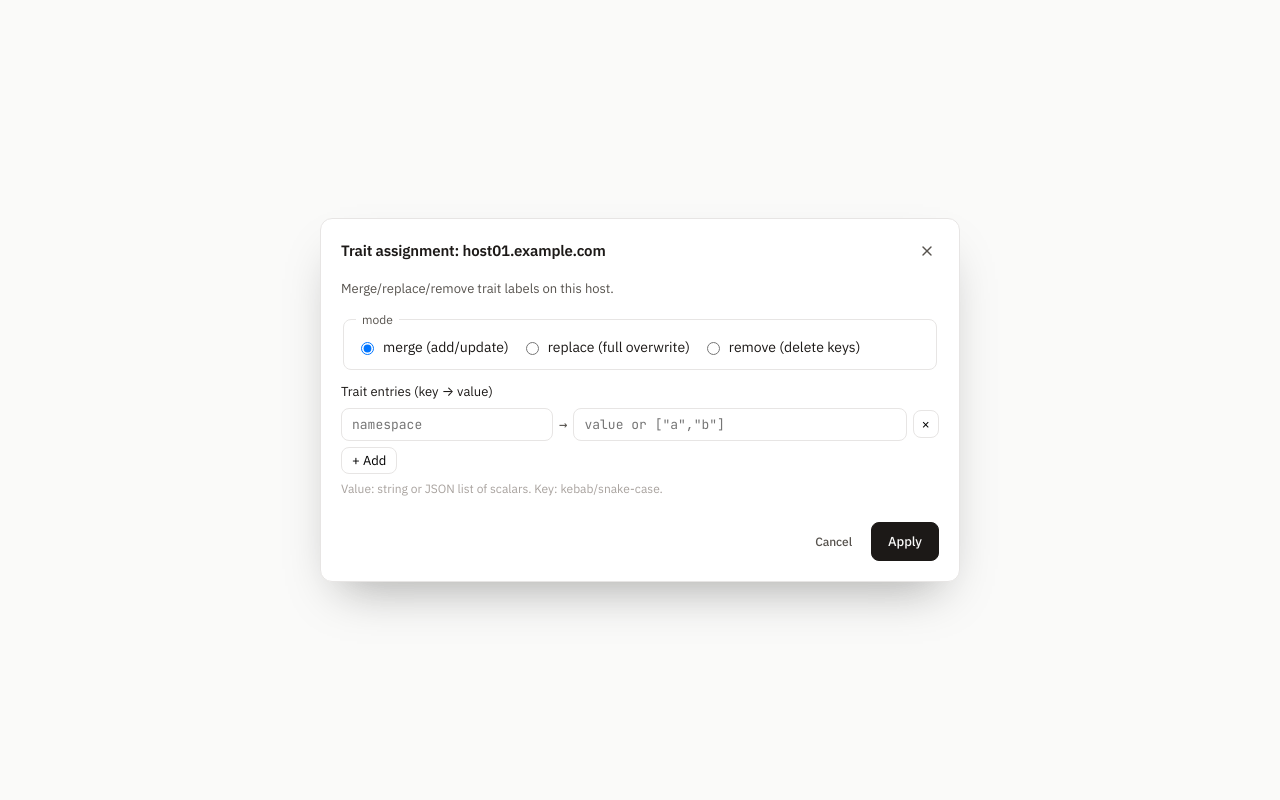
it: TraitsAssignModal › remove — validation: error on empty keys
The width and height of the screenshot is (1280, 800).
Click the radio button with test id "trait-mode-remove" at x=713, y=349, box [707, 342, 720, 355]
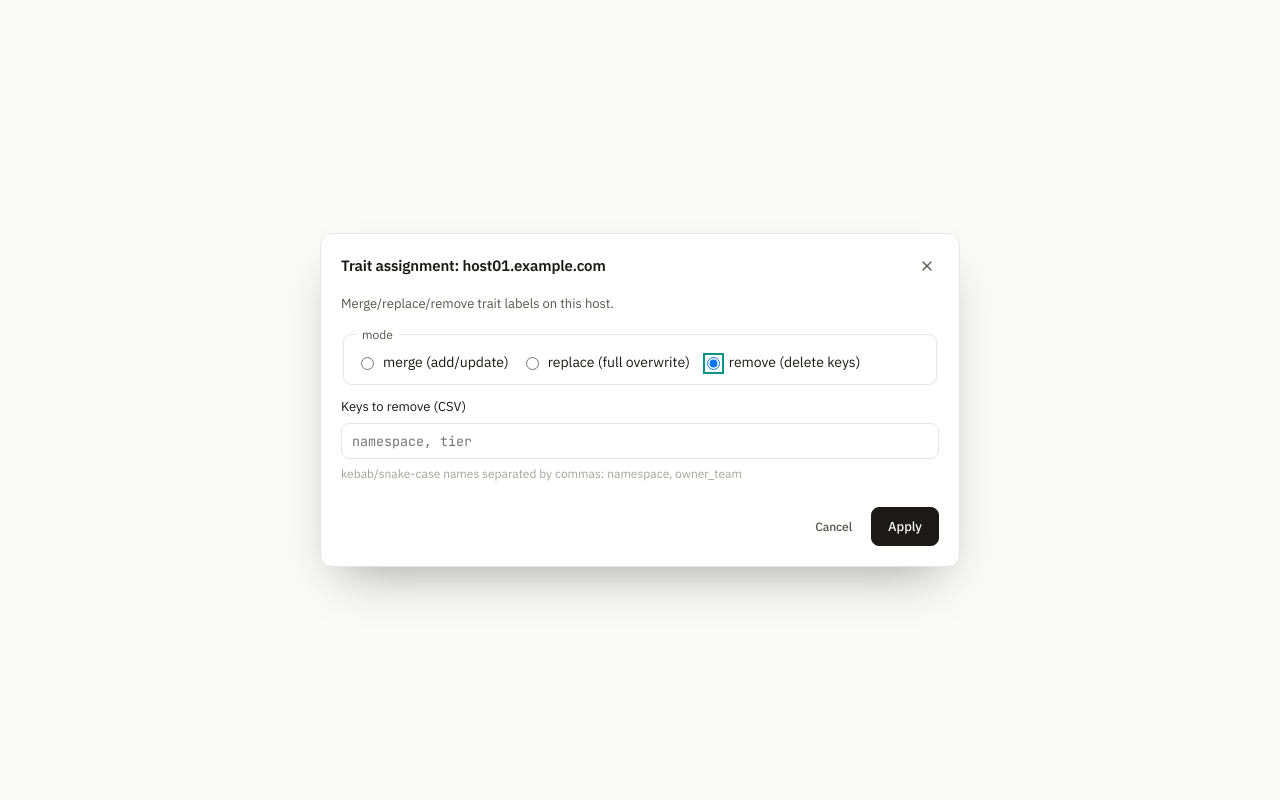
# Do not fill in keys -- apply right away
Click the button "Apply" at x=905, y=526, box [871, 507, 939, 546]
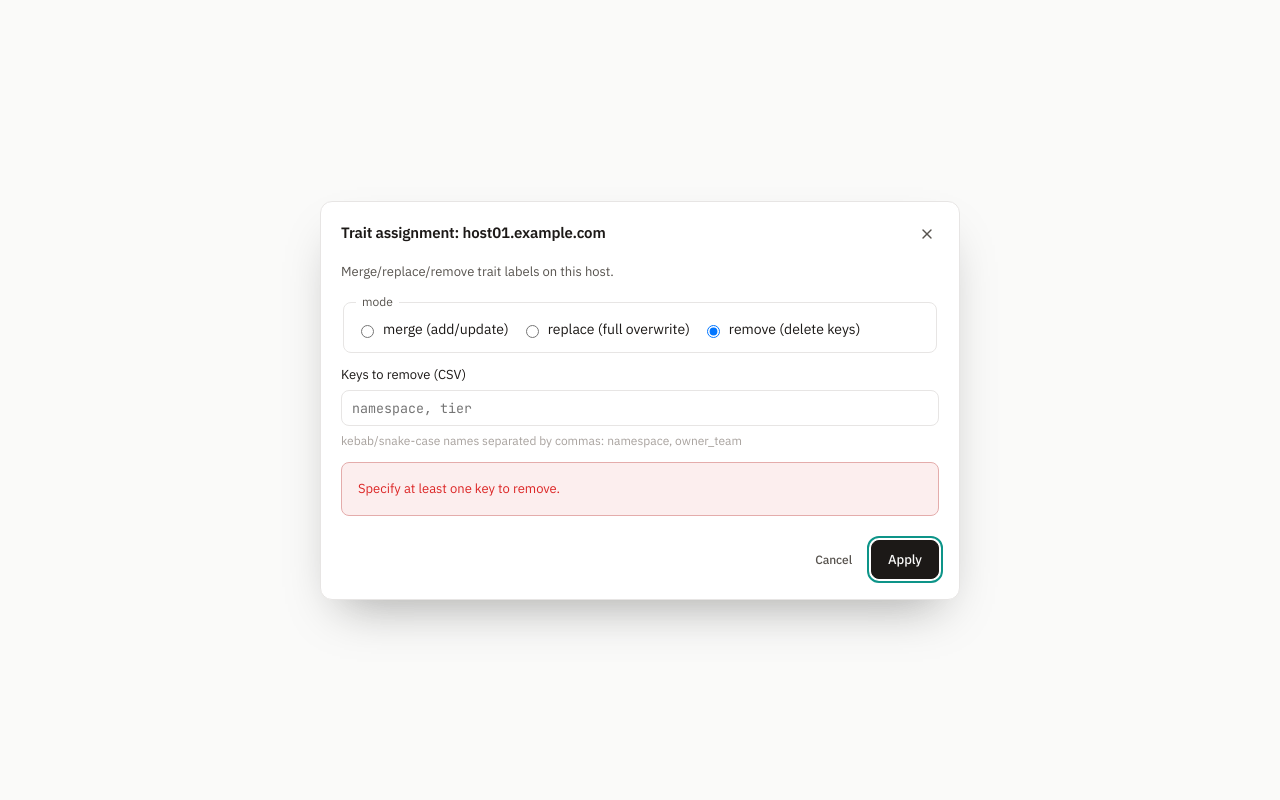
expect the text "Specify at least one key to remove." is shown: met, box [341, 462, 939, 516]
